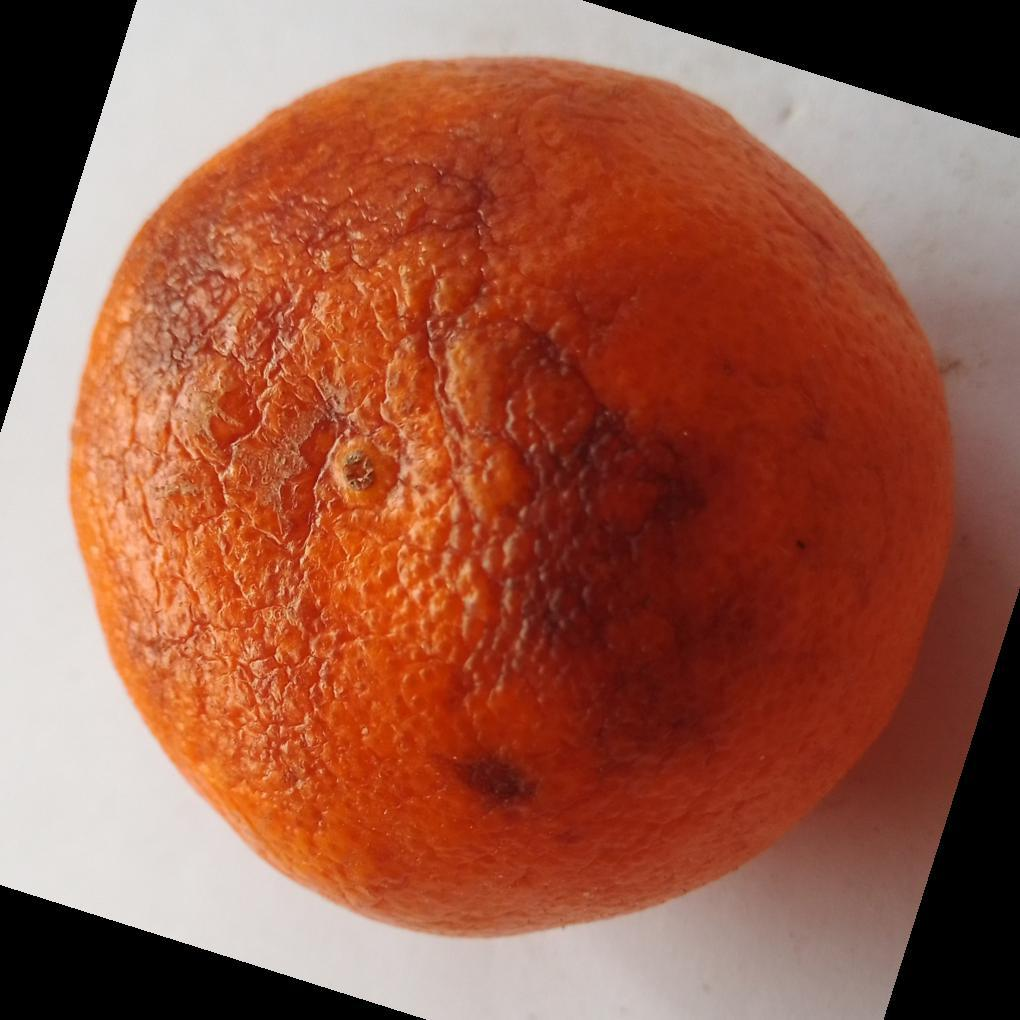FreshOrange: (65, 56, 959, 945)
